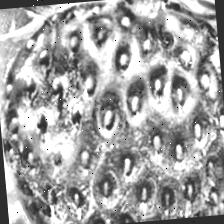Anthracnose Fruit Rot: (5, 0, 224, 224)
